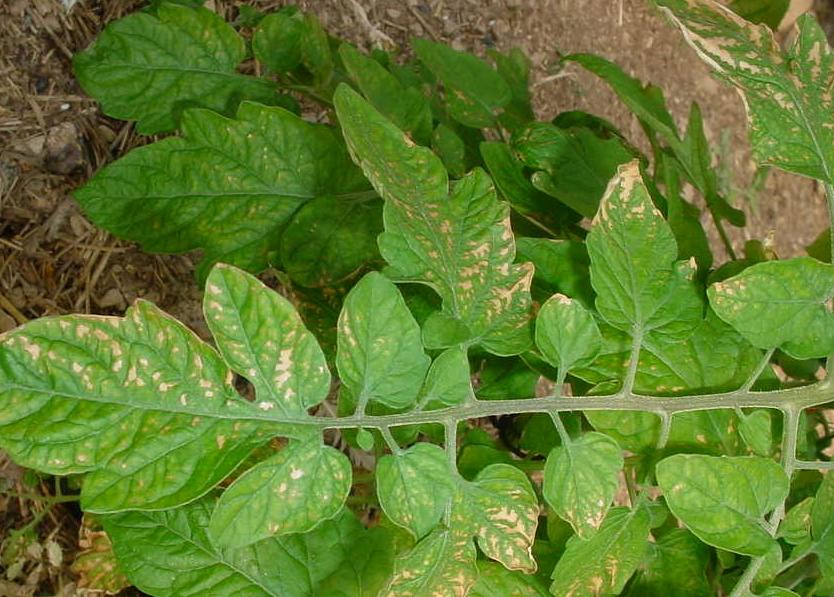Tomato leaf bacterial spot: (0, 276, 284, 527), (331, 80, 534, 396), (288, 436, 567, 597), (556, 130, 732, 352), (674, 222, 834, 401), (192, 245, 344, 426), (644, 437, 779, 592), (318, 270, 431, 418), (208, 436, 355, 545), (540, 405, 632, 538), (528, 285, 611, 384)
